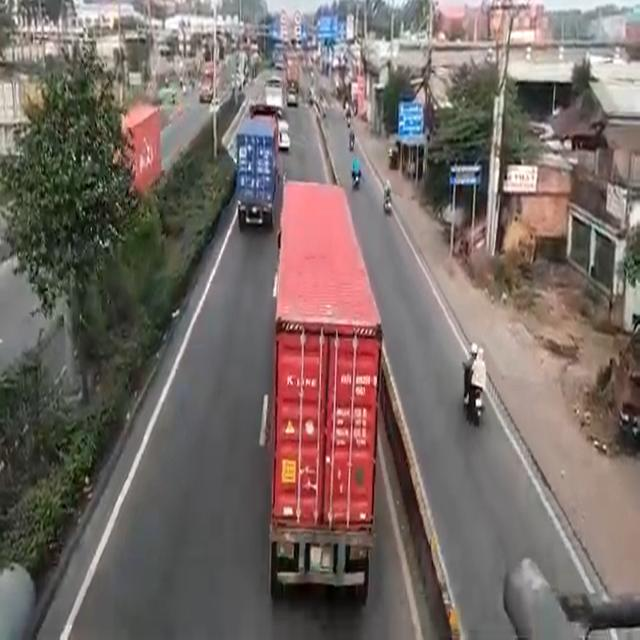motor: (460, 362, 486, 423), (381, 177, 394, 220), (350, 152, 362, 192)
truck: (279, 172, 365, 598), (238, 106, 276, 230), (290, 56, 300, 87)
